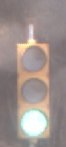Green: (6, 35, 59, 147)
